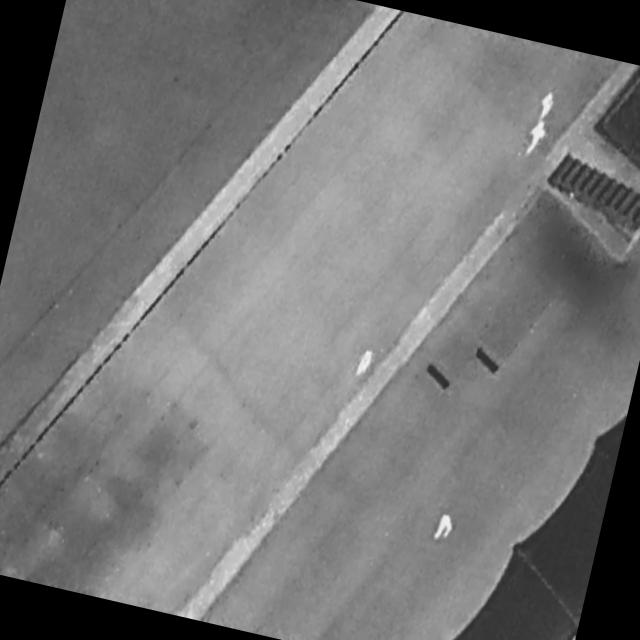person: (521, 116, 551, 164), (353, 344, 377, 381), (433, 510, 457, 544), (535, 88, 557, 125)
